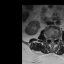CCS_normal: (51, 34, 53, 44)
LFS_stenosis: (55, 35, 57, 41)
LLS_normal: (53, 35, 55, 42)
RFS_normal: (48, 35, 50, 41)
RLS_normal: (50, 35, 51, 42)
